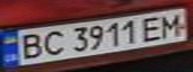1: (118, 17, 142, 44), (103, 20, 124, 47)
3: (66, 25, 90, 53)
9: (84, 22, 109, 51)
B: (12, 30, 48, 61)
C: (36, 28, 69, 57)
E: (136, 14, 169, 43)
M: (154, 10, 190, 38)
